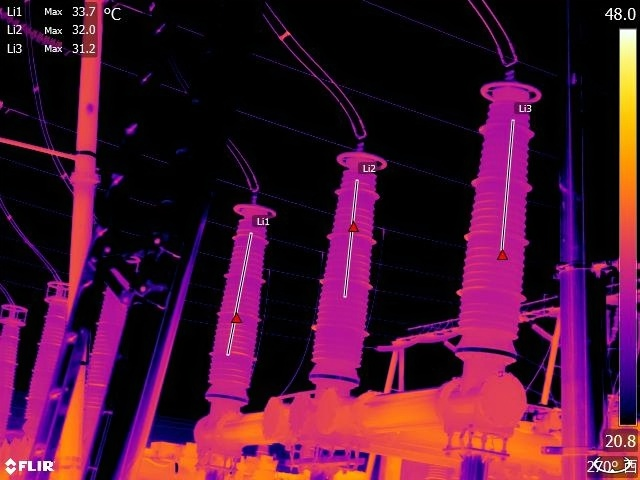tube: (448, 67, 544, 353), (300, 140, 387, 390), (202, 190, 275, 413), (76, 266, 137, 454), (24, 276, 70, 443), (1, 301, 30, 433)
